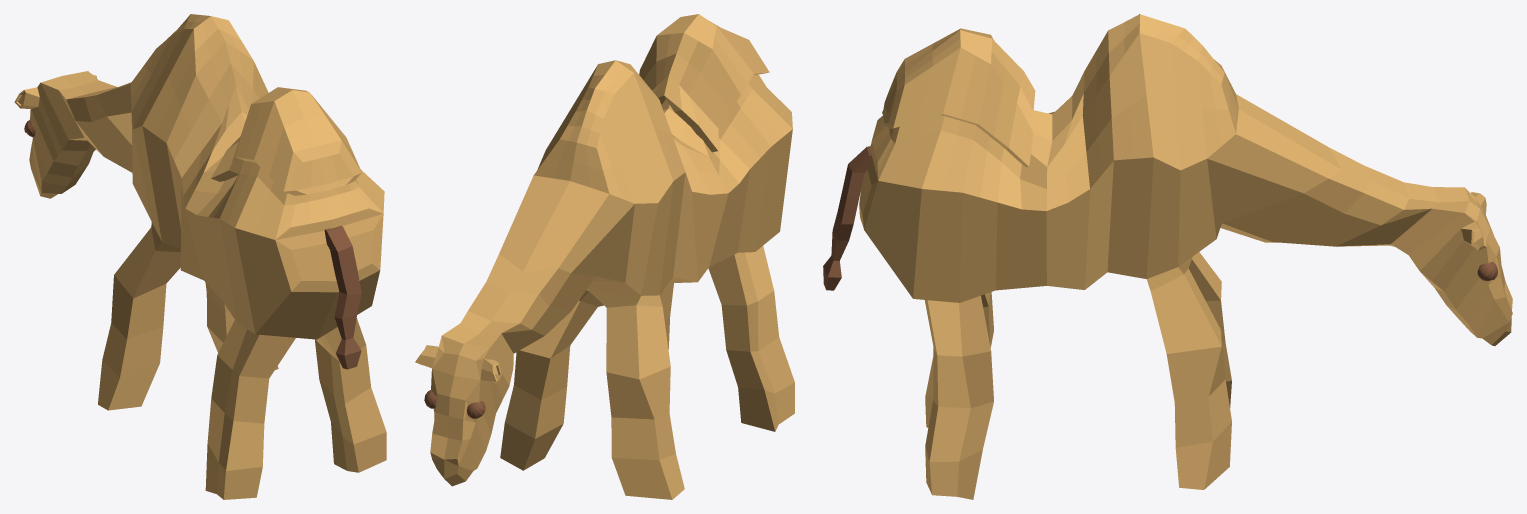
File: camel head.fbx
3 renders of one model, left to right at view 1: azimuth 30°, elevation 25°; view 2: azimuth 150°, elevation 25°; view 3: azimuth 270°, elevation 25°, orthographic. The views are drawn at different scales.
Parts seen in each view (by area): view 1: Camel, Bump, Tail; view 2: Camel, Bump, Eyes; view 3: Camel, Bump, Tail.
Part boxes in pixels (left/top/right/bottom): Camel: left=14, top=14, right=386, bottom=499; Bump: left=211, top=87, right=361, bottom=195; Tail: left=324, top=225, right=361, bottom=369; Camel: left=415, top=60, right=794, bottom=499; Bump: left=639, top=14, right=769, bottom=152; Eyes: left=424, top=390, right=485, bottom=418; Camel: left=859, top=14, right=1512, bottom=499; Bump: left=882, top=28, right=1035, bottom=167; Tail: left=823, top=146, right=871, bottom=290.
Size of the model in its own units: 124 by 281 by 393.
